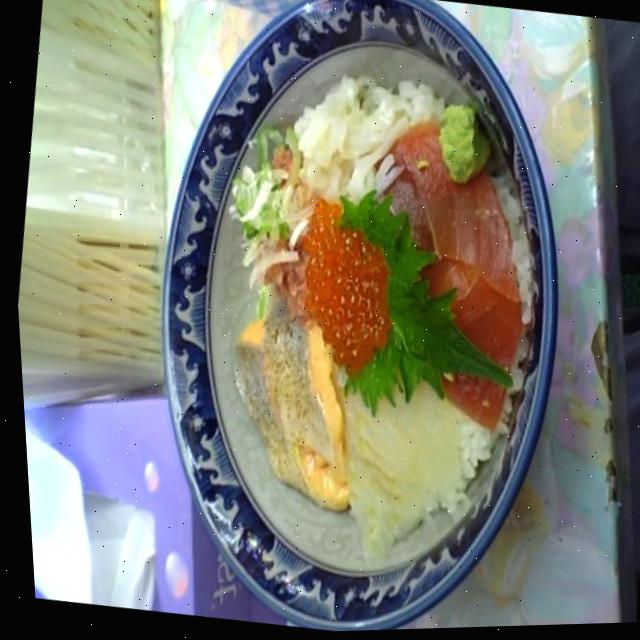刺身生食: (96, 0, 606, 638)
